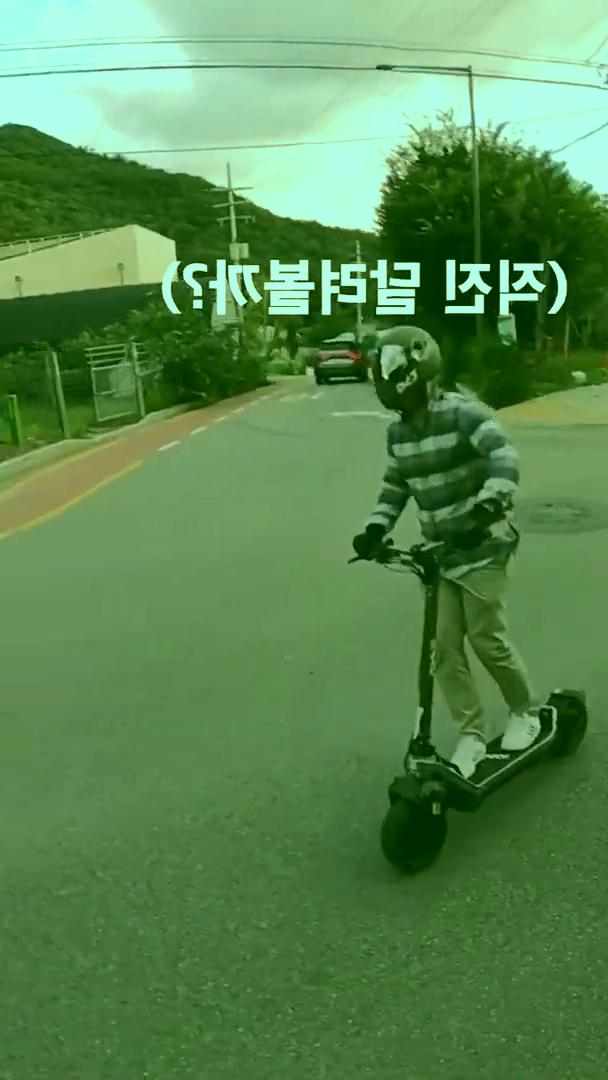helmet: (344, 322, 592, 880)
